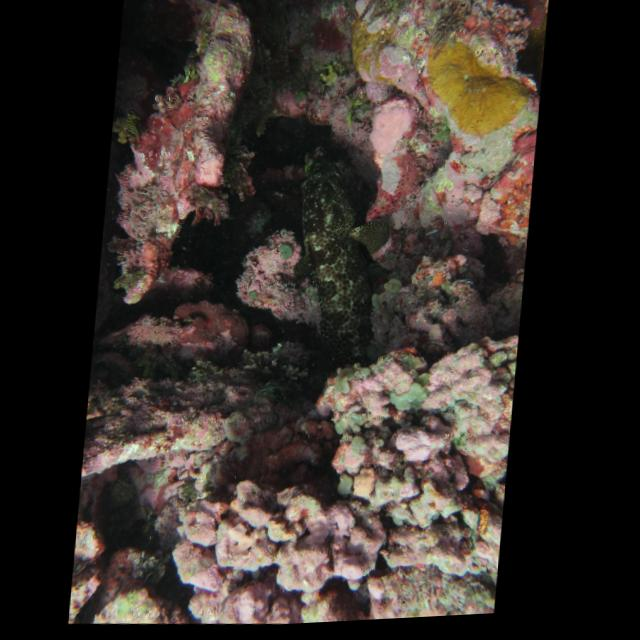Groupers: (280, 150, 399, 387)
